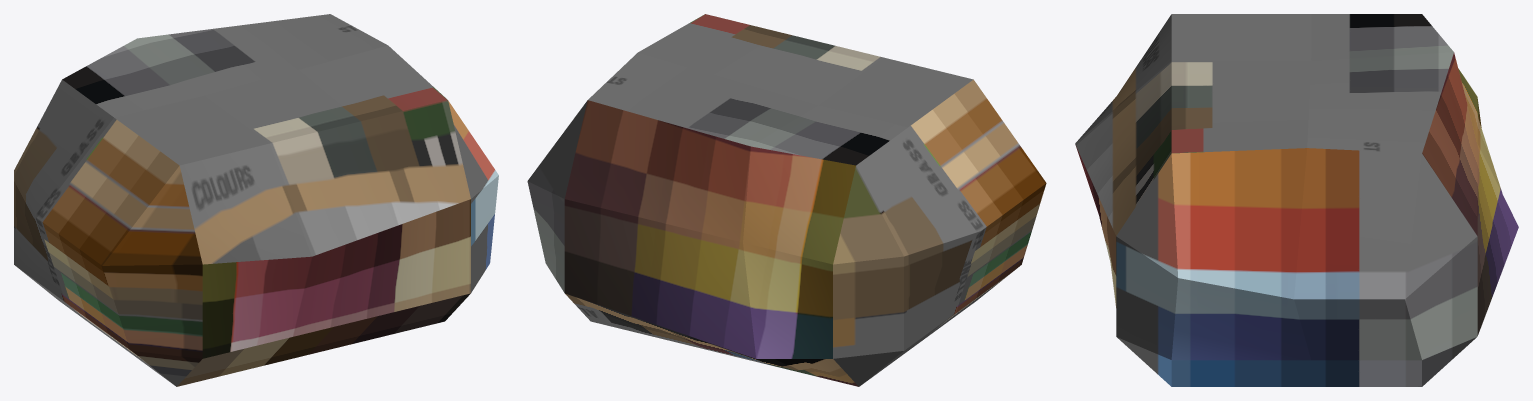
The model's file is Bushie.fbx.
The picture shows the model from 3 angles, left to right: view 1: azimuth 30°, elevation 25°; view 2: azimuth 150°, elevation 25°; view 3: azimuth 270°, elevation 25°; orthographic projection. The views are drawn at different scales.
Parts seen in each view (by area): view 1: Bush; view 2: Bush; view 3: Bush.
Part boxes in pixels (bbox=[...]): Bush: bbox=[14, 14, 498, 386]; Bush: bbox=[527, 14, 1046, 386]; Bush: bbox=[1075, 14, 1518, 386].
Size of the model in its own units: 2.28 by 1.21 by 2.
